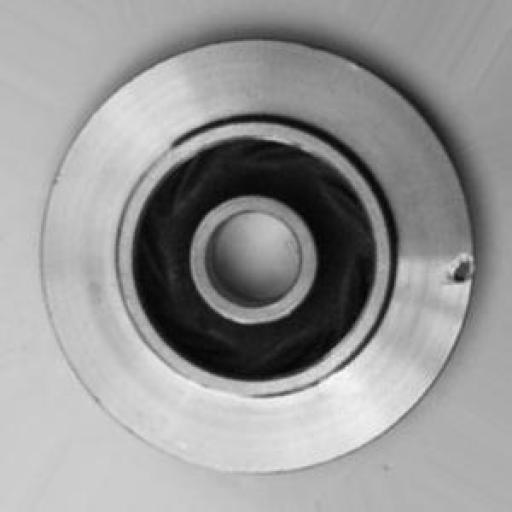defect: (430, 232, 497, 310)
